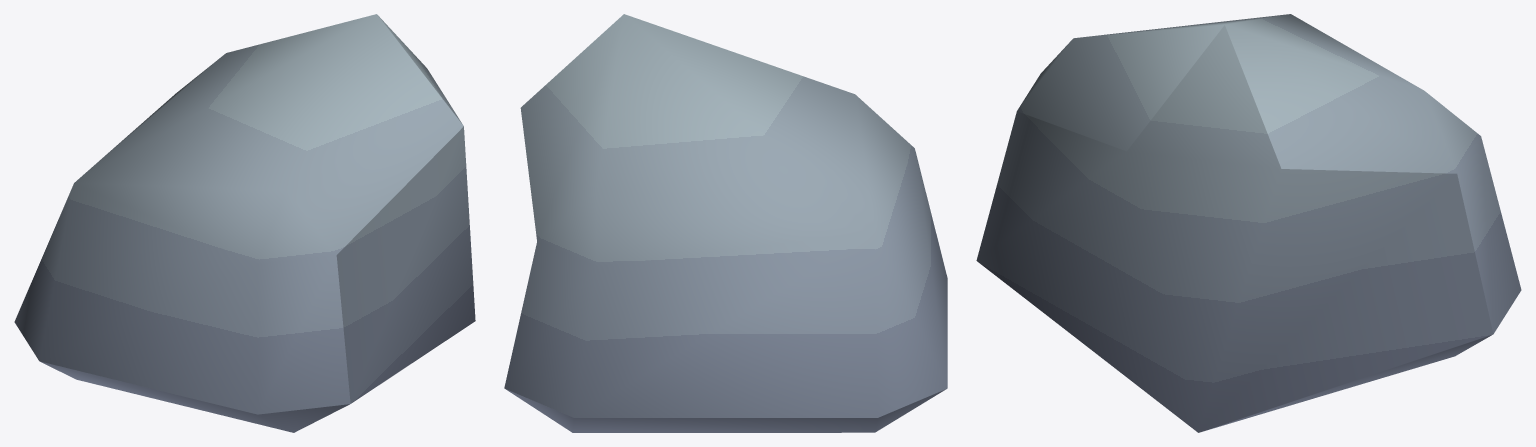
The model's file is rock2.FBX.
3 views of the same model, side by side, from view 1: azimuth 30°, elevation 25°; view 2: azimuth 150°, elevation 25°; view 3: azimuth 270°, elevation 25° (orthographic). The views are drawn at different scales.
Parts seen in each view (by area): view 1: rock2; view 2: rock2; view 3: rock2.
Boxes of the visible parts, left/top/right/bottom form: rock2: left=14, top=14, right=475, bottom=432; rock2: left=504, top=14, right=947, bottom=432; rock2: left=976, top=14, right=1521, bottom=432.
Size of the model in its own units: 4.37 by 3.24 by 4.44.
